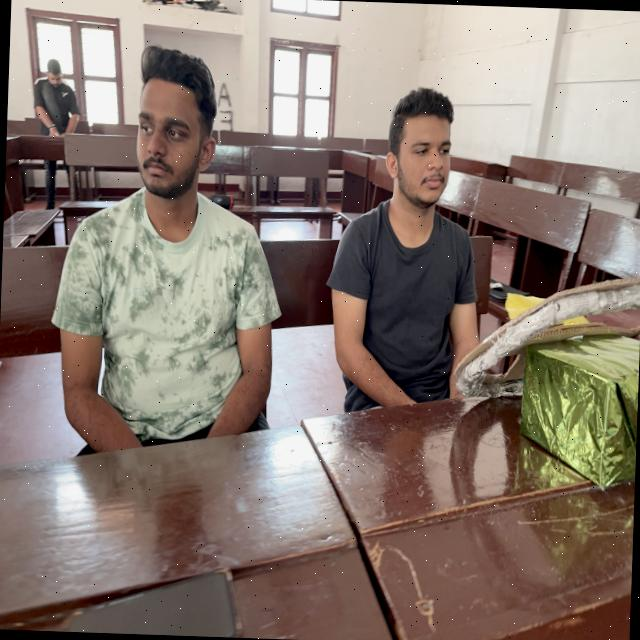no-seatbelt: (42, 190, 282, 493), (320, 202, 480, 438)
